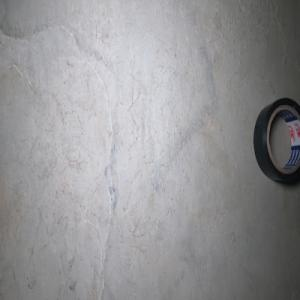Tape: (253, 97, 300, 185)
